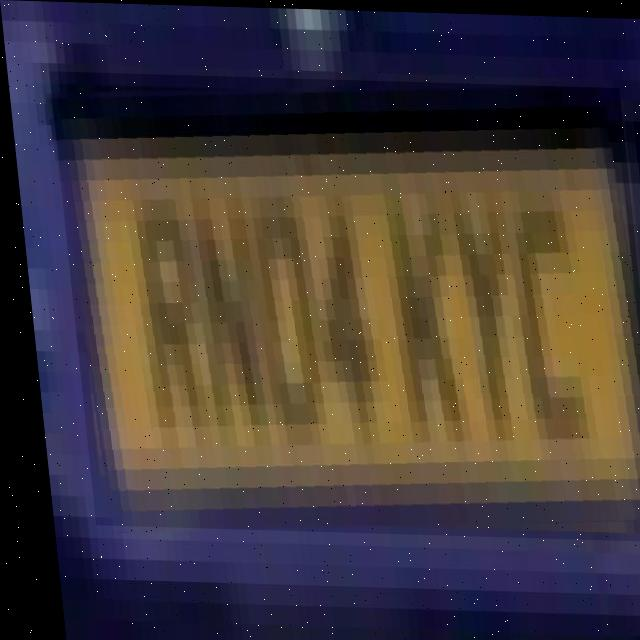LicensePlate: (48, 71, 640, 538)
